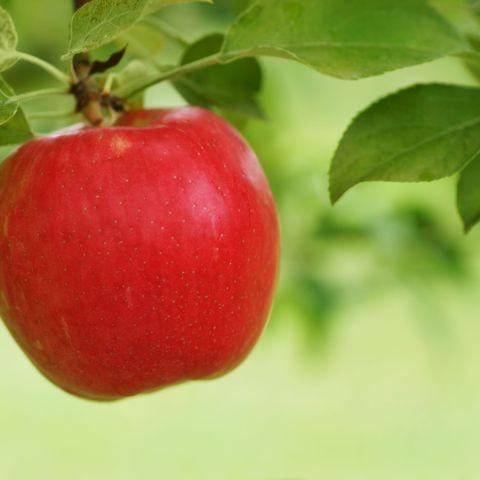apple: (1, 100, 283, 412)
